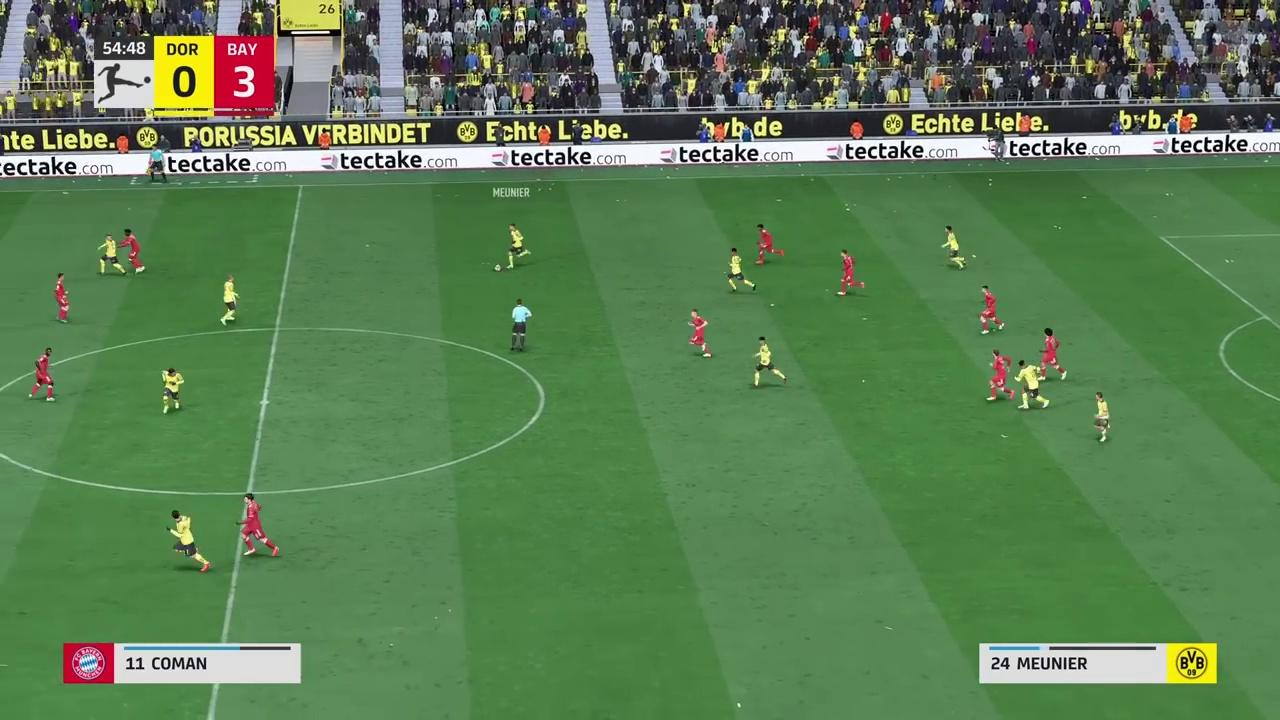scoreboard: (159, 38, 272, 108)
timestamp: (94, 38, 155, 60)
